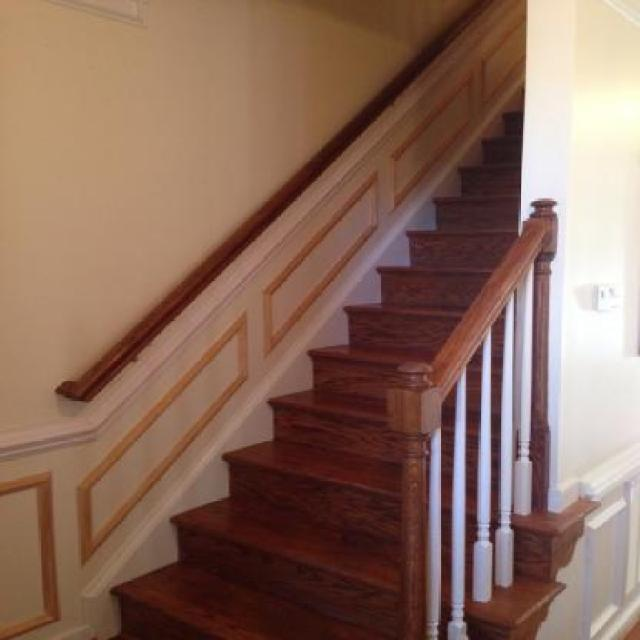stair: (106, 87, 600, 640)
